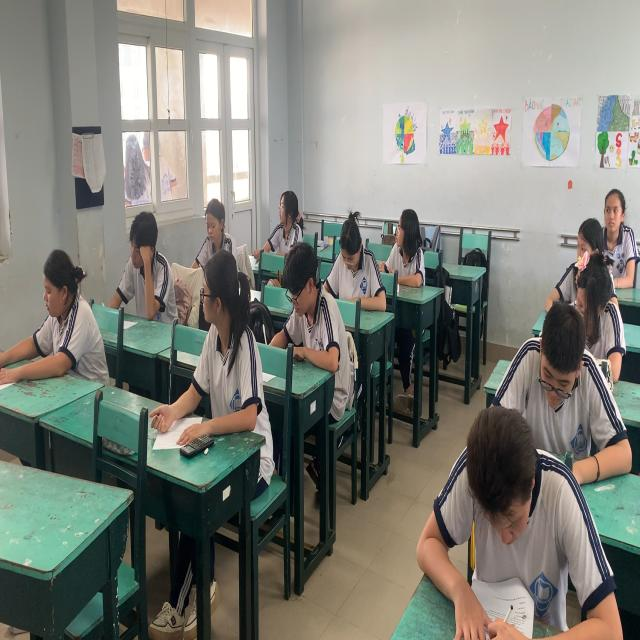cheating: (191, 251, 265, 460), (389, 200, 429, 300)
not_cheating: (438, 400, 604, 610), (506, 311, 603, 463), (277, 236, 355, 391), (34, 239, 100, 381), (554, 258, 623, 366), (328, 200, 384, 312), (119, 196, 167, 315), (586, 170, 639, 270), (192, 192, 238, 264), (266, 183, 297, 250)
